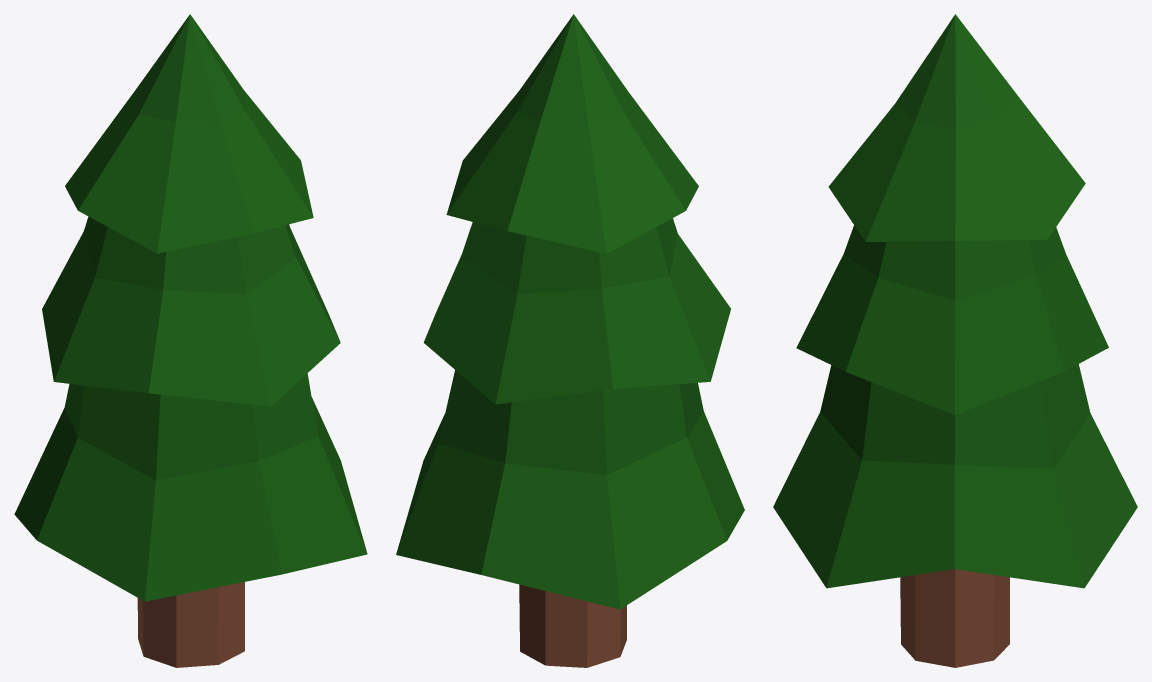
The model's file is Tree_01_autumn_mat.fbx.
The picture shows the model from 3 angles, left to right: view 1: azimuth 30°, elevation 25°; view 2: azimuth 150°, elevation 25°; view 3: azimuth 270°, elevation 25°; orthographic projection.
Visible parts, largest first — view 1: Tree_01_autumn_mat; view 2: Tree_01_autumn_mat; view 3: Tree_01_autumn_mat.
Boxes of the visible parts, <box> form: Tree_01_autumn_mat: <box>14,14,367,667</box>; Tree_01_autumn_mat: <box>396,14,744,667</box>; Tree_01_autumn_mat: <box>773,14,1137,667</box>.
Bounding box in the file's own units: 333 × 661 × 347.
